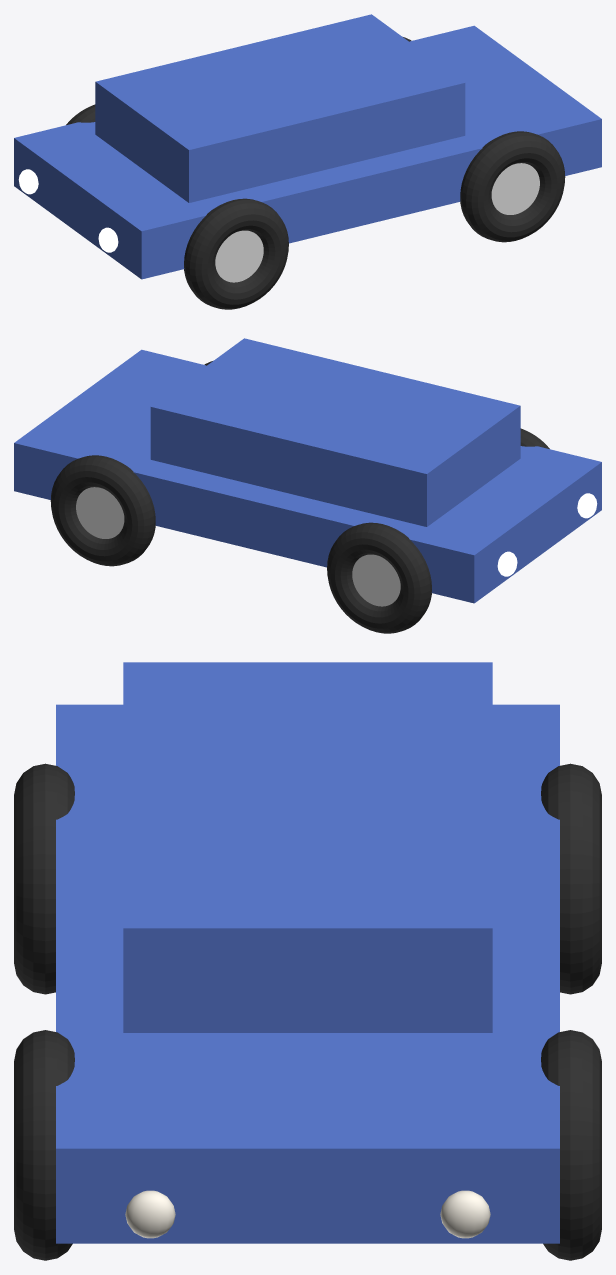
3 renders of one model, top to bottom at view 1: azimuth 30°, elevation 25°; view 2: azimuth 150°, elevation 25°; view 3: azimuth 270°, elevation 25°, orthographic. The views are drawn at different scales.
Visible parts, largest first — view 1: SleekSportsCar; view 2: SleekSportsCar; view 3: SleekSportsCar.
Part boxes in pixels (x1=…): SleekSportsCar: x1=14, y1=14, x2=601, y2=309; SleekSportsCar: x1=14, y1=338, x2=601, y2=633; SleekSportsCar: x1=14, y1=662, x2=601, y2=1260.
Size of the model in its own units: 5.37 by 1.55 by 2.8.
